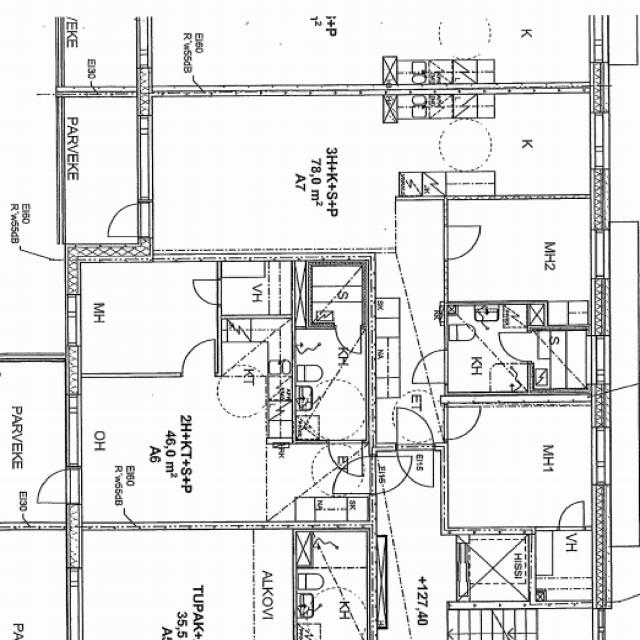door: (102, 202, 154, 236), (397, 444, 433, 488), (397, 408, 433, 450), (444, 225, 481, 259), (410, 350, 448, 383), (444, 407, 479, 438), (499, 332, 532, 360), (559, 502, 584, 531)
